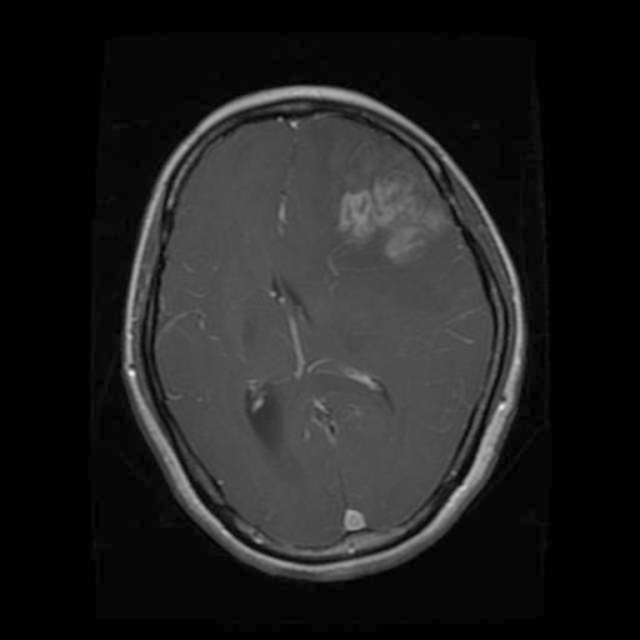pituitary tumor: (335, 186, 440, 266)
